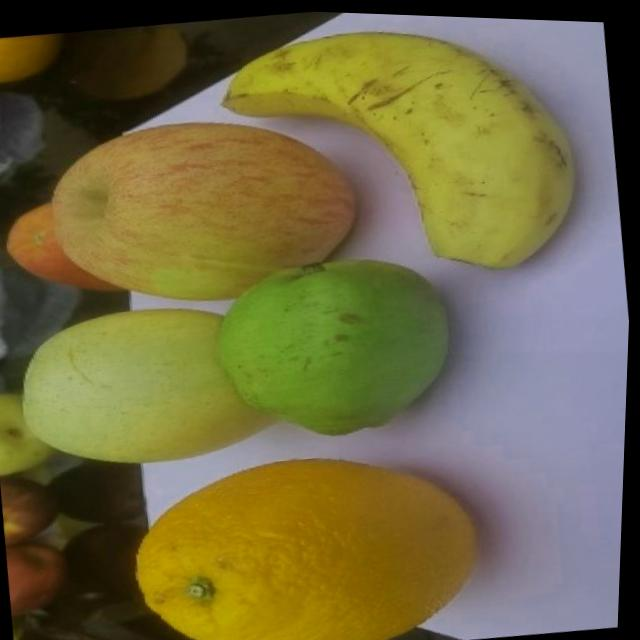Apple: (41, 95, 372, 321)
Banana: (208, 6, 593, 300)
Orange: (124, 427, 497, 640), (0, 29, 69, 90)
